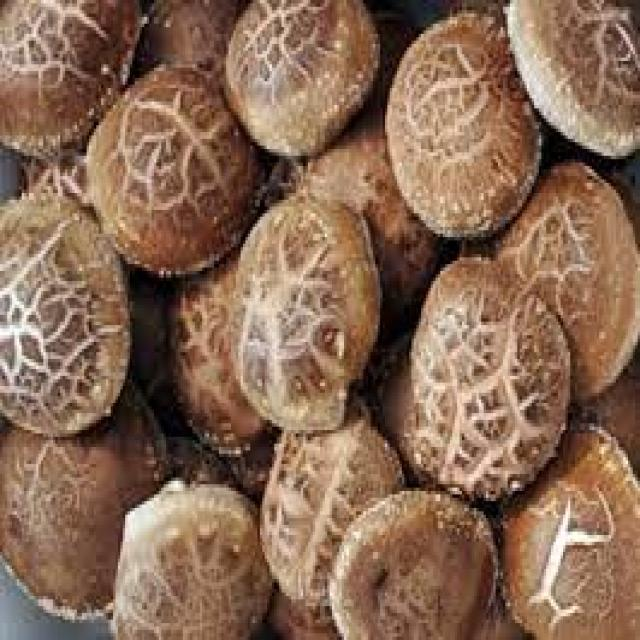mushroom: (406, 257, 572, 501), (234, 193, 381, 433)
